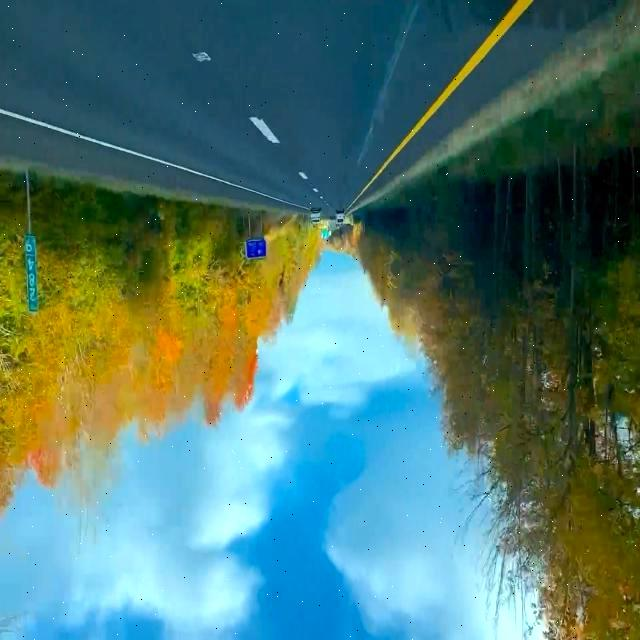lane: (357, 1, 536, 200), (1, 109, 302, 208), (250, 117, 280, 142)
road: (1, 1, 513, 215)
